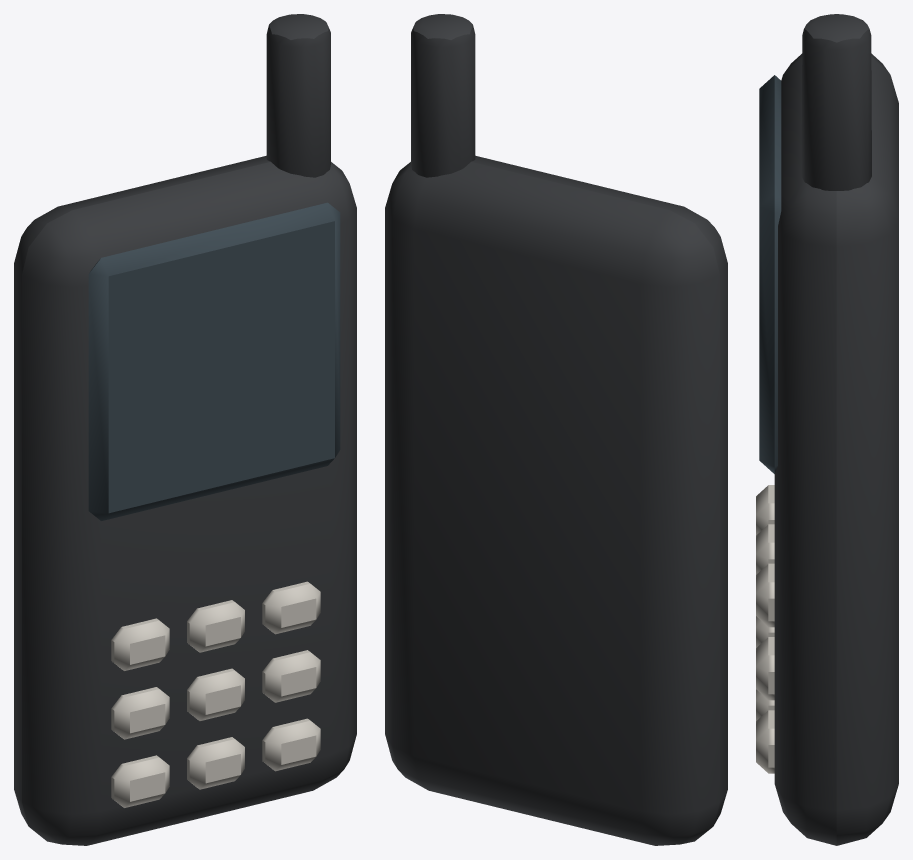
The model's file is mobile_phone.glb.
3 views of the same model, side by side, from view 1: azimuth 30°, elevation 25°; view 2: azimuth 150°, elevation 25°; view 3: azimuth 270°, elevation 25° (orthographic). The views are drawn at different scales.
Parts seen in each view (by area): view 1: bag, screen, steel; view 2: bag; view 3: bag, screen, steel.
Boxes of the visible parts, bbox=[...] form: bag: bbox=[14, 14, 356, 845]; screen: bbox=[88, 202, 340, 520]; steel: bbox=[111, 581, 320, 807]; bag: bbox=[385, 14, 727, 845]; bag: bbox=[774, 14, 898, 845]; screen: bbox=[759, 75, 781, 473]; steel: bbox=[756, 485, 774, 773].
Size of the model in its own units: 0.13 by 0.29 by 0.046.
